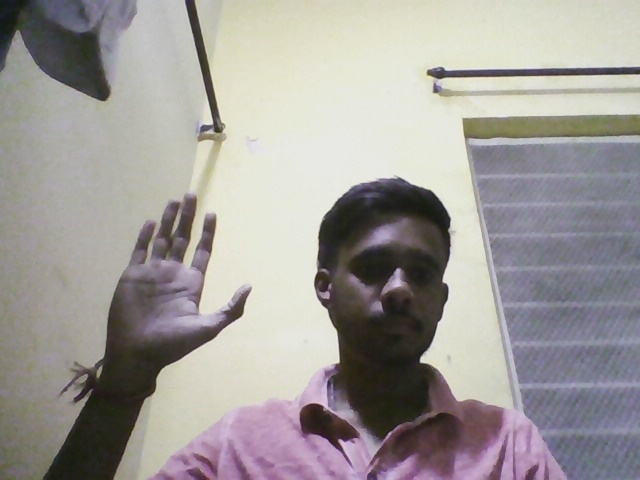hello: (99, 186, 272, 360)
